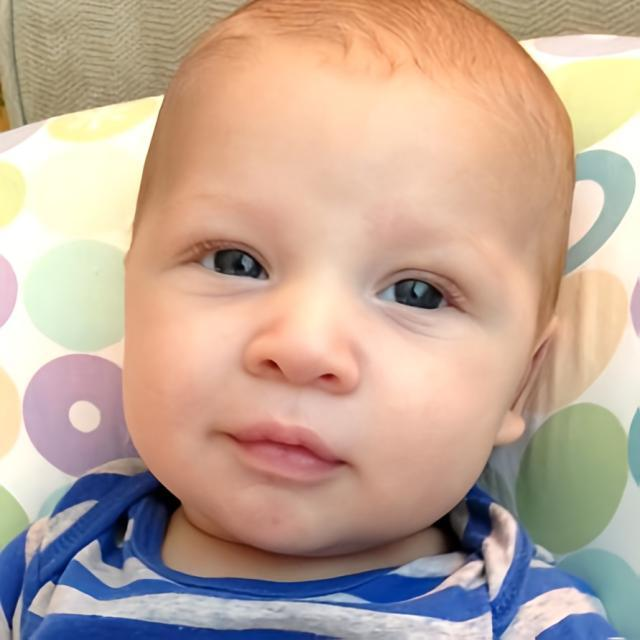neutral: (120, 46, 537, 559)
